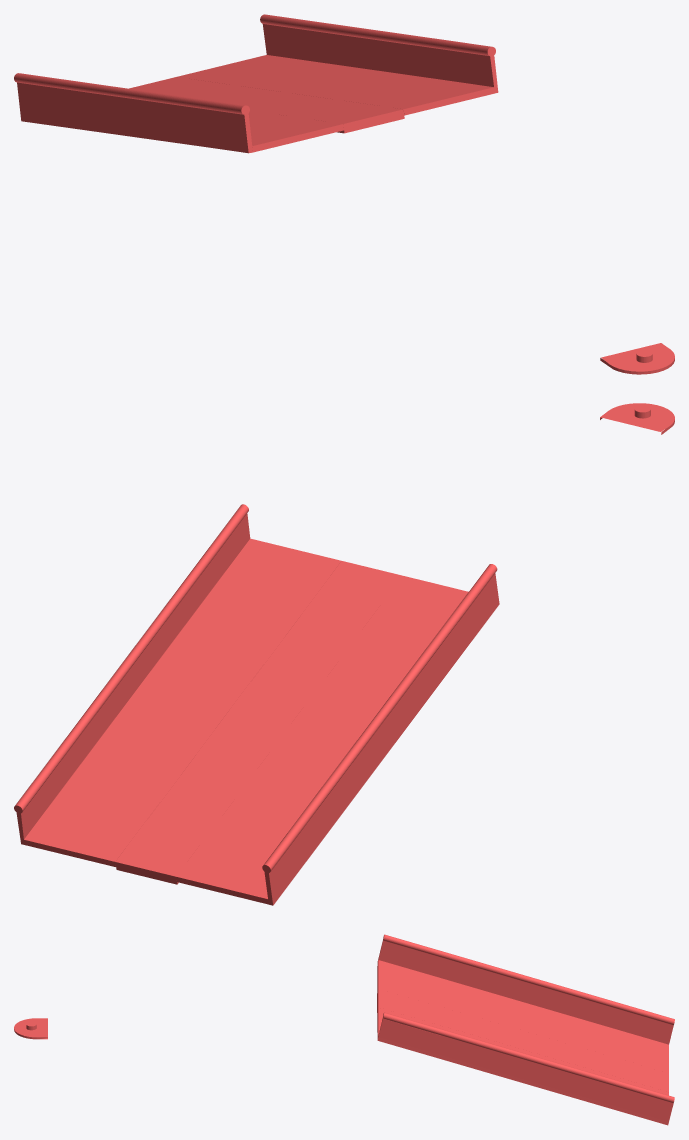
The model's file is trackpiece-ramp-connected.glb.
The picture shows the model from 3 angles, top to bottom: view 1: azimuth 30°, elevation 25°; view 2: azimuth 150°, elevation 25°; view 3: azimuth 270°, elevation 25°; orthographic projection. The views are drawn at different scales.
Visible parts, largest first — view 1: Track piece/short, Track piece/short.001; view 2: Track piece/short, Track piece/short.001; view 3: Track piece/short, Track piece/short.001.
Part boxes in pixels (x1=…): Track piece/short: x1=14, y1=14, x2=498, y2=153; Track piece/short.001: x1=600, y1=343, x2=674, y2=374; Track piece/short: x1=14, y1=504, x2=499, y2=905; Track piece/short.001: x1=600, y1=403, x2=674, y2=434; Track piece/short: x1=377, y1=934, x2=674, y2=1125; Track piece/short.001: x1=14, y1=1018, x2=47, y2=1039.
Size of the model in its own units: 8.39 by 5.6 by 29.13.
